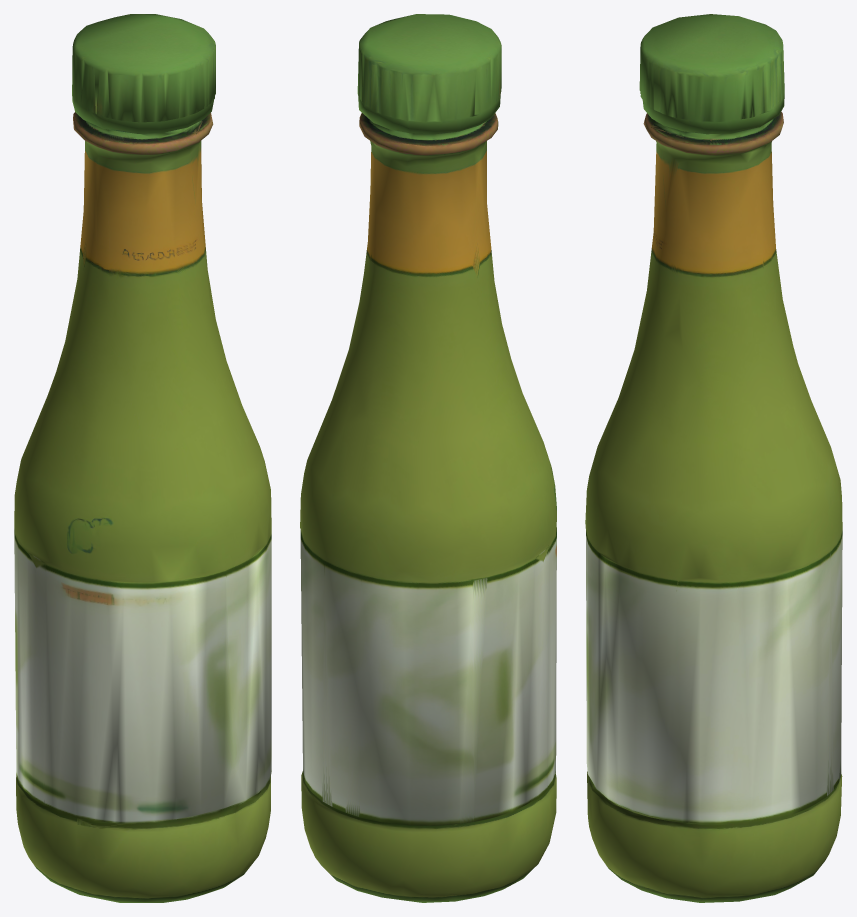
3 views of the same model, side by side, from view 1: azimuth 30°, elevation 25°; view 2: azimuth 150°, elevation 25°; view 3: azimuth 270°, elevation 25° (orthographic).
Parts seen in each view (by area): view 1: tripo_node_f4c2339d-c55f-4611-b5b4-7362153b3bbf; view 2: tripo_node_f4c2339d-c55f-4611-b5b4-7362153b3bbf; view 3: tripo_node_f4c2339d-c55f-4611-b5b4-7362153b3bbf.
Part boxes in pixels (x1=…): tripo_node_f4c2339d-c55f-4611-b5b4-7362153b3bbf: x1=14, y1=14, x2=271, y2=902; tripo_node_f4c2339d-c55f-4611-b5b4-7362153b3bbf: x1=300, y1=14, x2=556, y2=902; tripo_node_f4c2339d-c55f-4611-b5b4-7362153b3bbf: x1=585, y1=14, x2=842, y2=902.
Bounding box in the file's own units: 0.2832 × 0.9997 × 0.2842.
